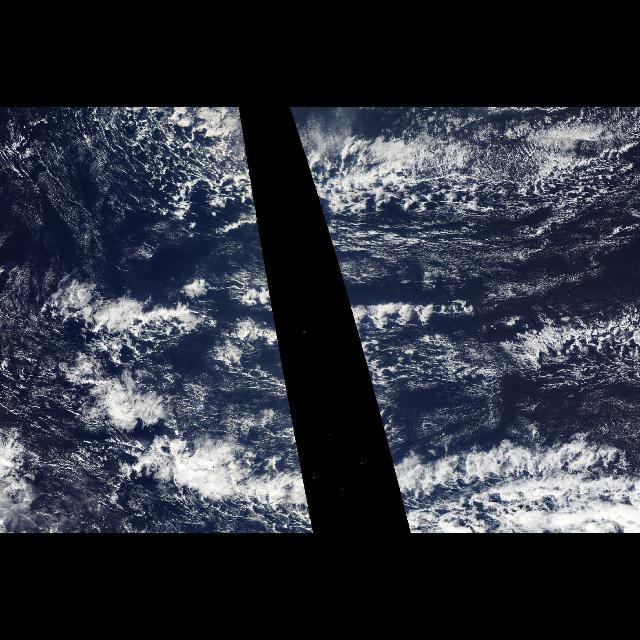Fish: (383, 426, 639, 516), (132, 426, 312, 516)
Flower: (19, 256, 257, 449)
Gravel: (288, 107, 636, 230), (120, 107, 260, 230)
Sugar: (369, 210, 581, 298), (1, 107, 118, 243)
